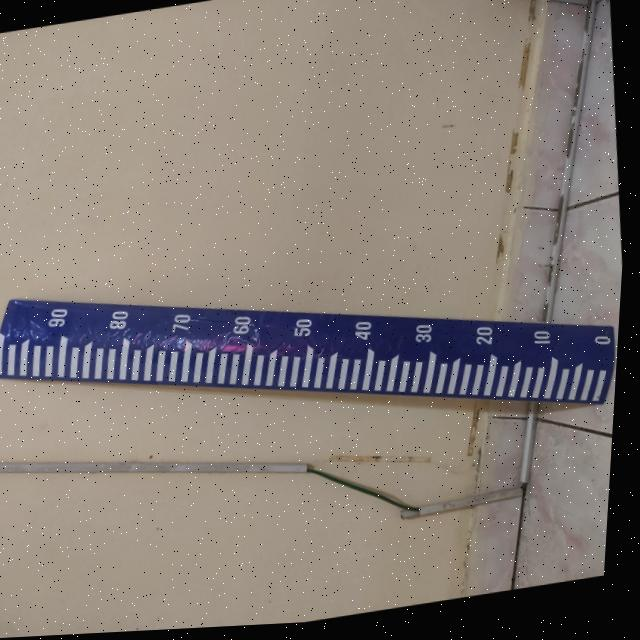water-meter: (0, 194, 627, 516)
